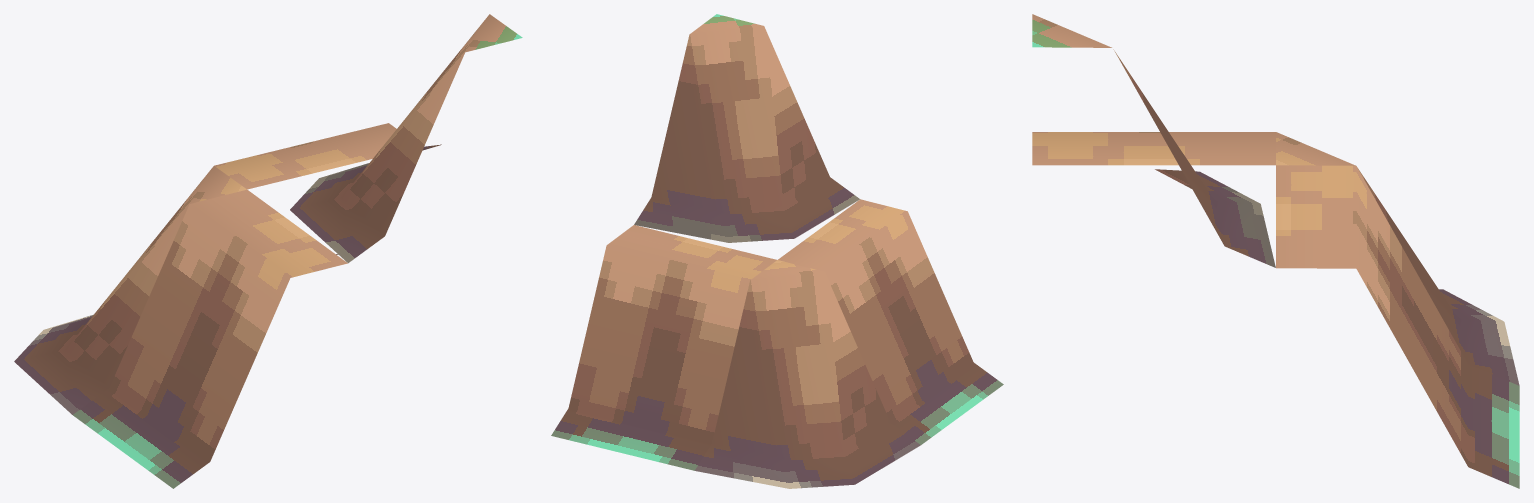
3 views of the same model, side by side, from view 1: azimuth 30°, elevation 25°; view 2: azimuth 150°, elevation 25°; view 3: azimuth 270°, elevation 25° (orthographic). The views are drawn at different scales.
Bounding box in the file's own units: 2 × 2 × 2.
Materials: 2 (2 with a texture image).
